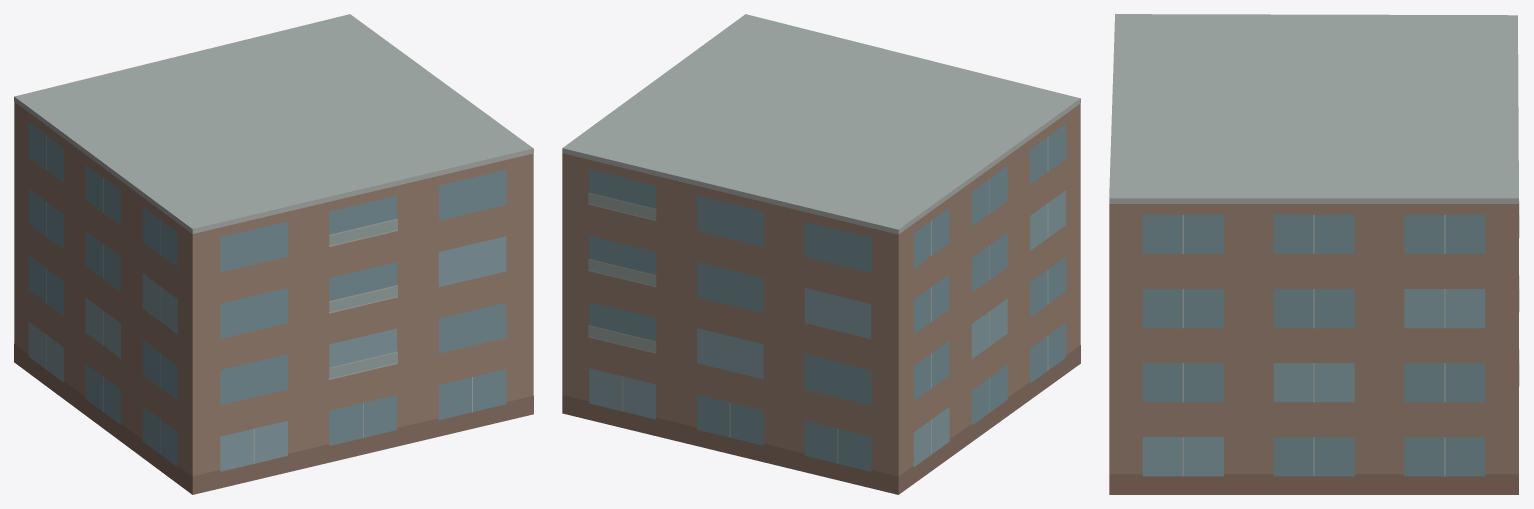
File: survey-upis-32823812.glb
3 renders of one model, left to right at view 1: azimuth 30°, elevation 25°; view 2: azimuth 150°, elevation 25°; view 3: azimuth 270°, elevation 25°, orthographic. The views are drawn at different scales.
Visible parts, largest first — view 1: survey-upis-32823812.tmp; view 2: survey-upis-32823812.tmp; view 3: survey-upis-32823812.tmp.
Boxes of the visible parts, x1=… form: survey-upis-32823812.tmp: x1=14, y1=14, x2=533, y2=494; survey-upis-32823812.tmp: x1=562, y1=14, x2=1080, y2=494; survey-upis-32823812.tmp: x1=1109, y1=14, x2=1519, y2=494.
Size of the model in its own units: 17.48 by 13.1 by 16.45.
